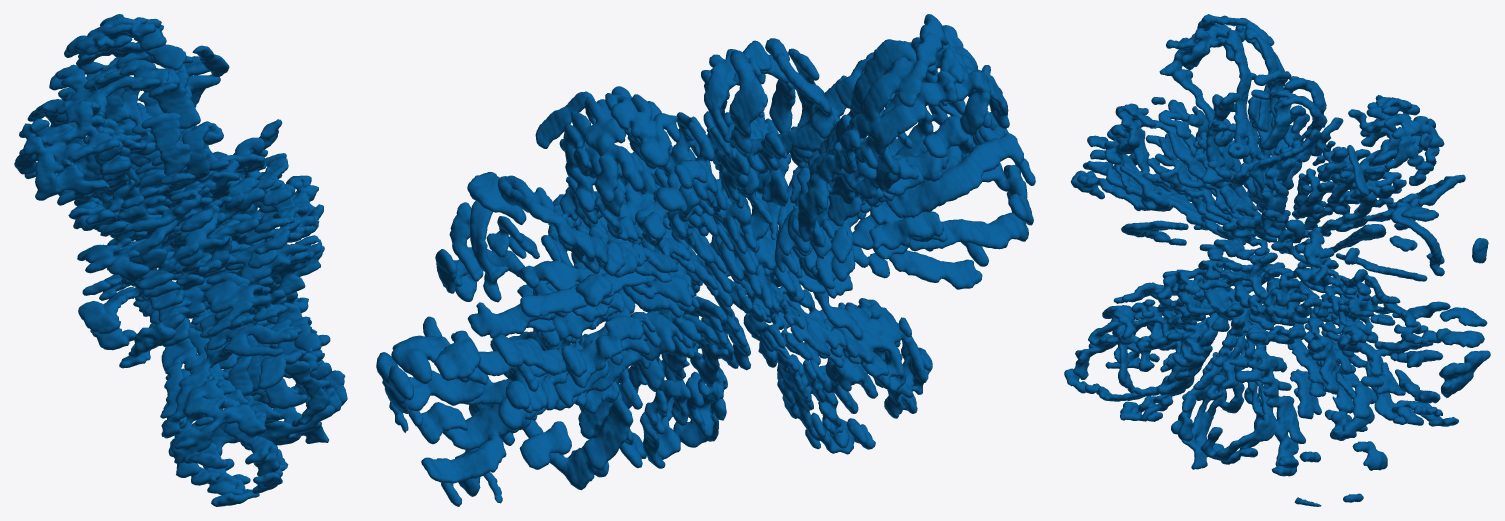
The model's file is 6HR_30cis_timelapse_z.glb.
The picture shows the model from 3 angles, left to right: view 1: azimuth 30°, elevation 25°; view 2: azimuth 150°, elevation 25°; view 3: azimuth 270°, elevation 25°; orthographic projection. The views are drawn at different scales.
Parts seen in each view (by area): view 1: MAX_30cis_timelapse_z; view 2: MAX_30cis_timelapse_z; view 3: MAX_30cis_timelapse_z.
Part boxes in pixels (<box>): MAX_30cis_timelapse_z: <box>14,14,347,506</box>; MAX_30cis_timelapse_z: <box>376,14,1035,506</box>; MAX_30cis_timelapse_z: <box>1064,14,1490,506</box>.
Size of the model in its own units: 24.44 by 25.73 by 27.
